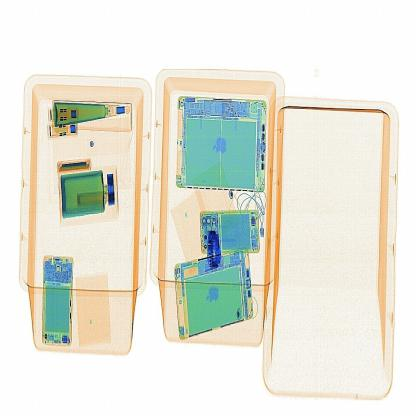scissors: (205, 224, 225, 270)
